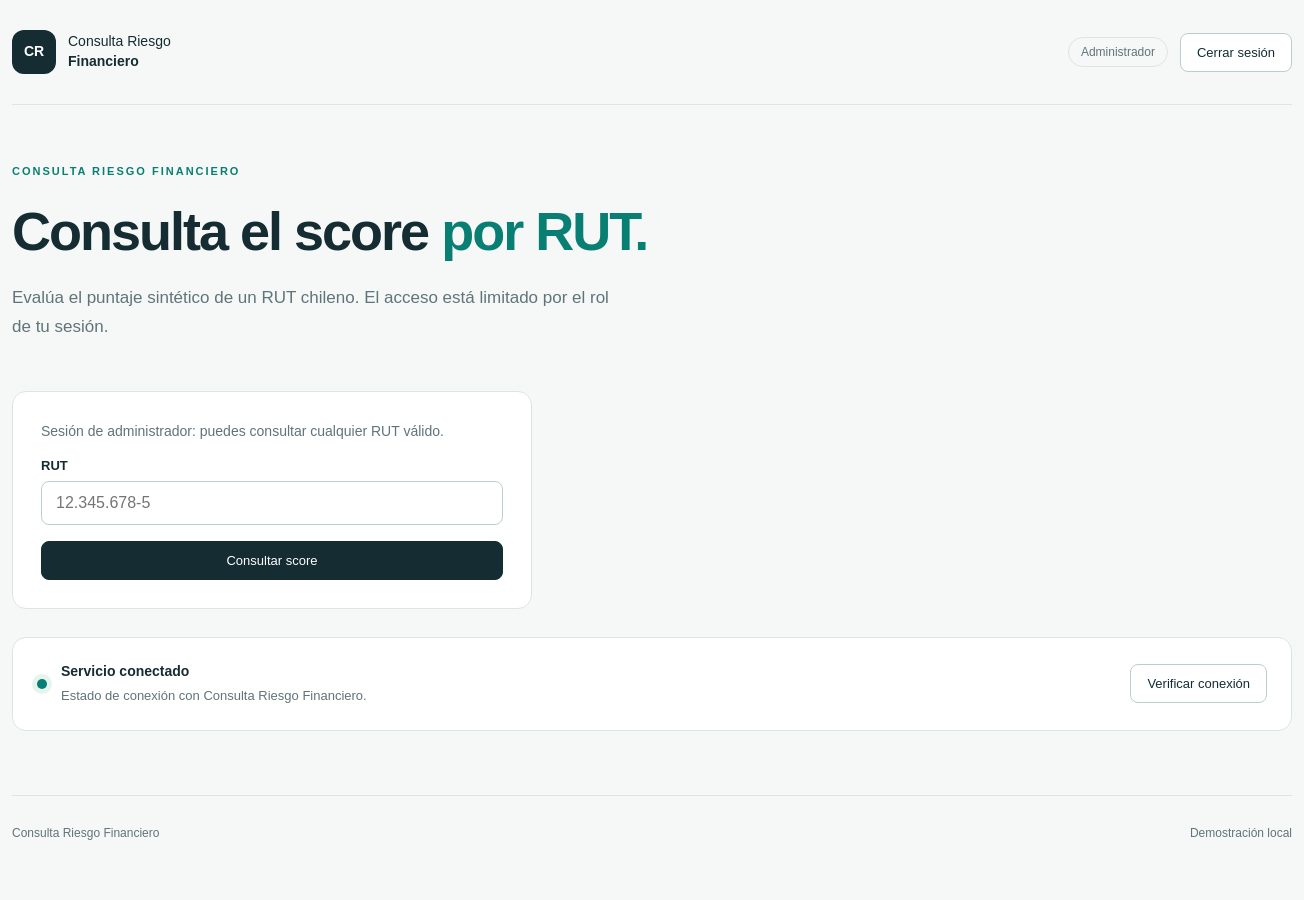
Test case: ConsultaApp › keeps the authenticated view when logout fails
Click the button "Cerrar sesión".
click(1236, 52)  # box left=1180, top=32, right=1292, bottom=72
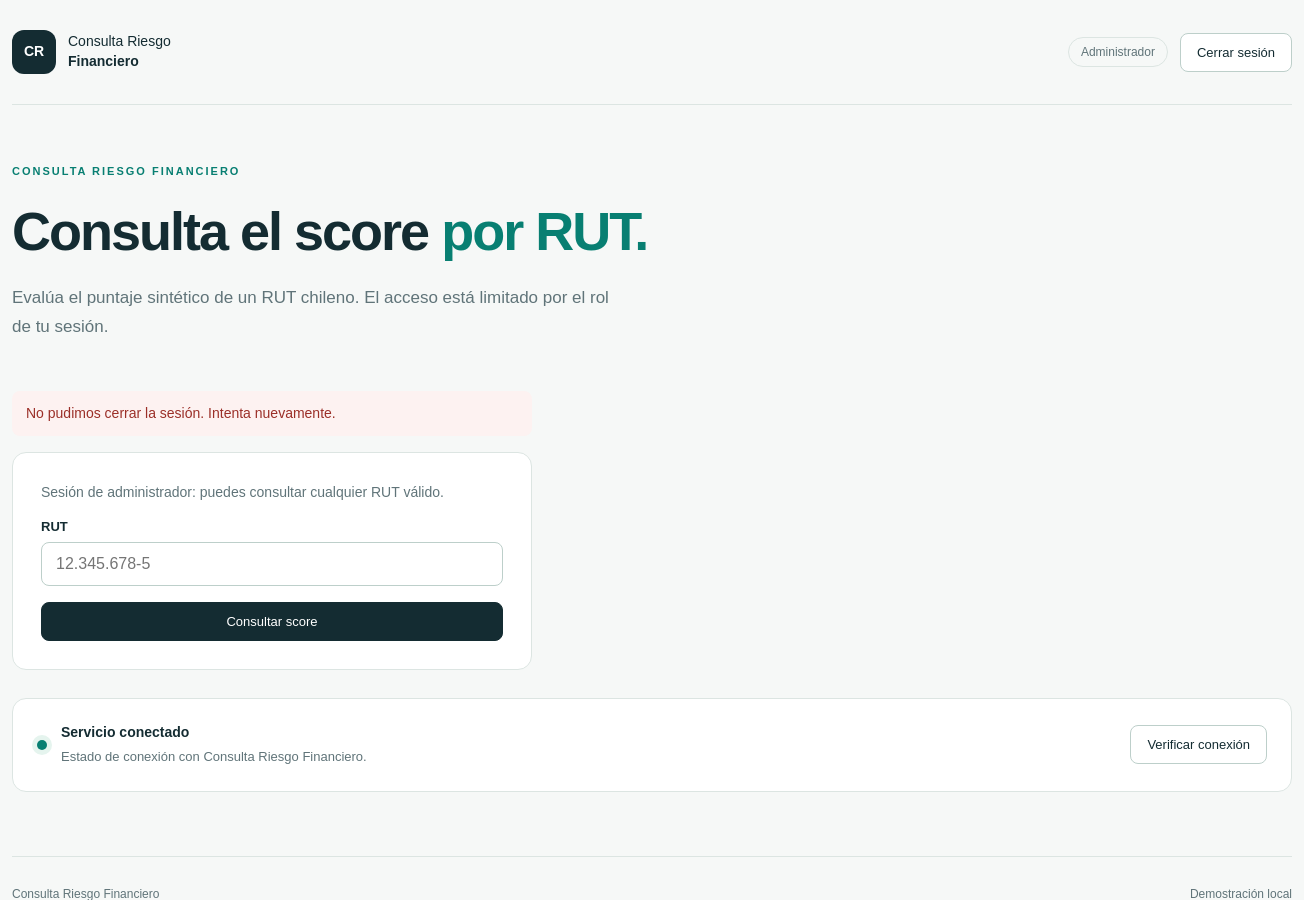
Expected: the field labelled "RUT" is shown, left=41, top=542, right=503, bottom=586
Expected: the message "No pudimos cerrar la sesión. Intenta nuevamente." is shown, left=12, top=391, right=532, bottom=436
